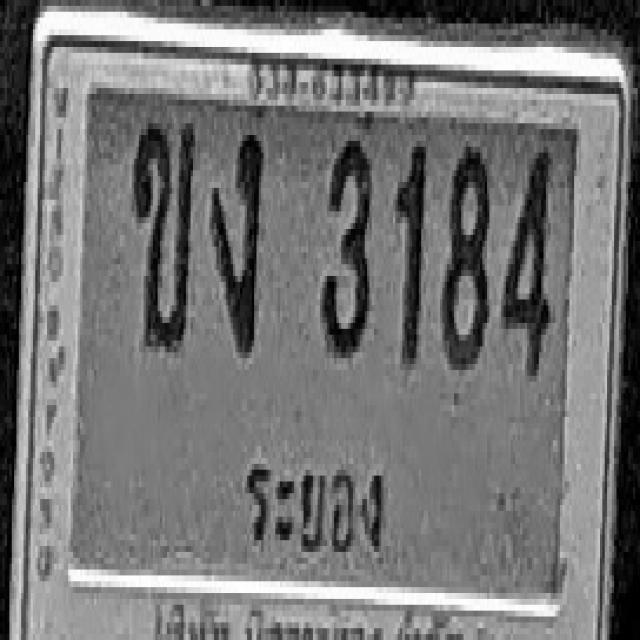1: (397, 141, 427, 364)
11KhorKhai: (133, 114, 196, 350)
16NgorNgu: (212, 124, 264, 352)
3: (322, 135, 372, 352)
4: (502, 141, 552, 376)
8: (442, 144, 490, 367)
Rayong: (235, 432, 394, 579)
